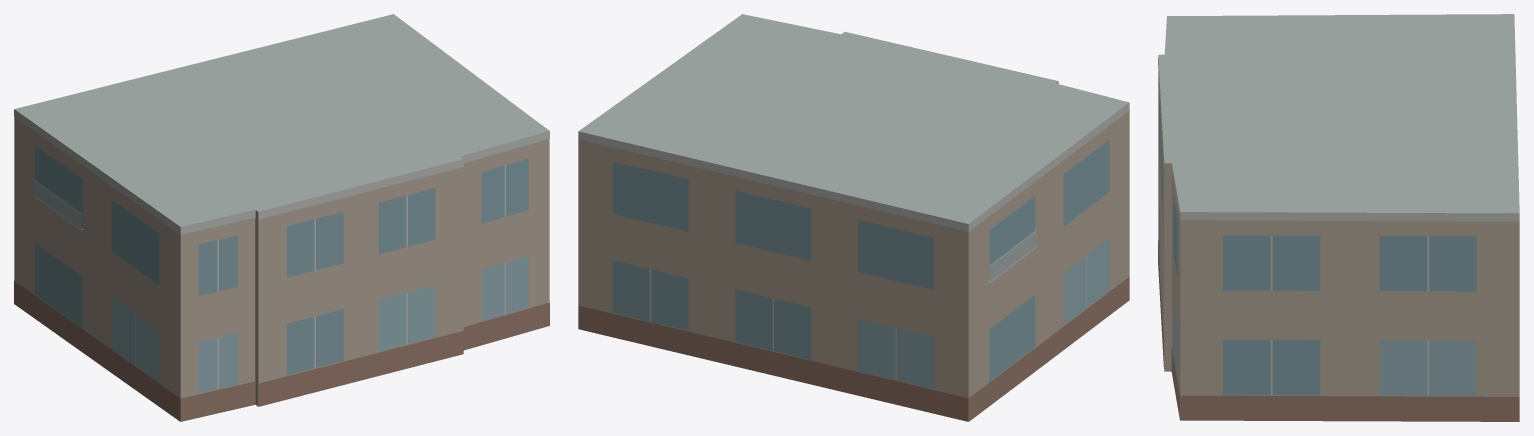
Rendered from survey-upis-32603310.glb.
3 renders of one model, left to right at view 1: azimuth 30°, elevation 25°; view 2: azimuth 150°, elevation 25°; view 3: azimuth 270°, elevation 25°, orthographic. The views are drawn at different scales.
Visible parts, largest first — view 1: survey-upis-32603310.tmp; view 2: survey-upis-32603310.tmp; view 3: survey-upis-32603310.tmp.
Part boxes in pixels (<box>): survey-upis-32603310.tmp: <box>14,14,549,421</box>; survey-upis-32603310.tmp: <box>578,14,1129,421</box>; survey-upis-32603310.tmp: <box>1158,14,1519,421</box>.
Size of the model in its own units: 12.54 by 6.1 by 9.6.
